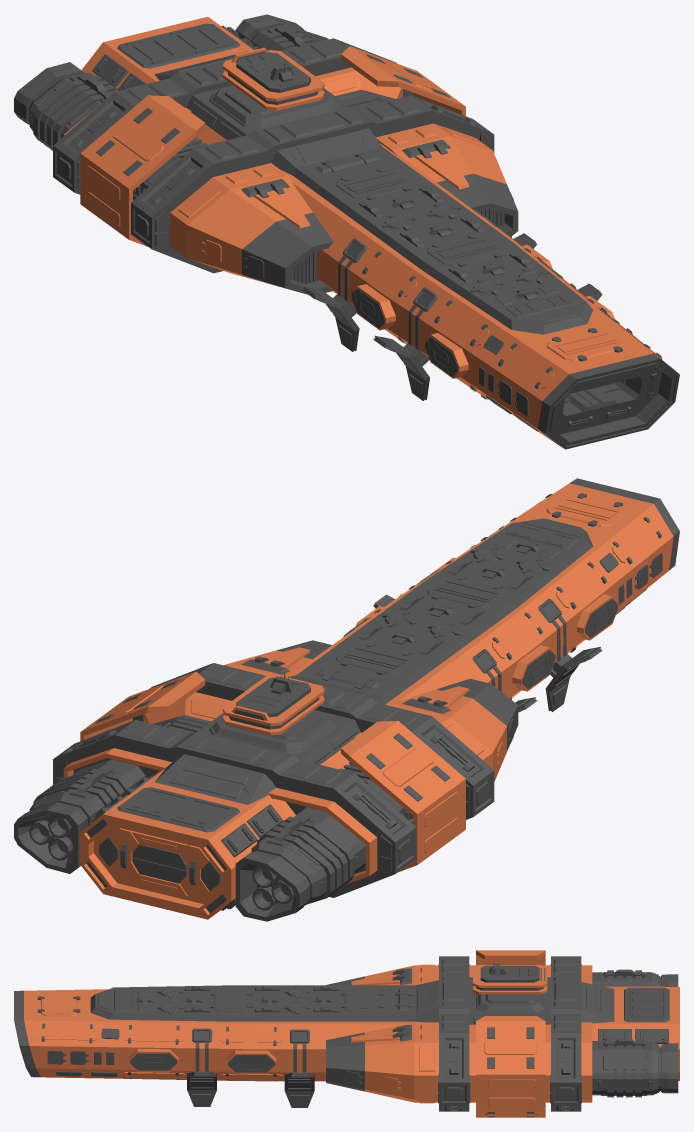
Rendered from CapitalShip_Complete.fbx.
The picture shows the model from 3 angles, top to bottom: view 1: azimuth 30°, elevation 25°; view 2: azimuth 150°, elevation 25°; view 3: azimuth 270°, elevation 25°; orthographic projection. The views are drawn at different scales.
Visible parts, largest first — view 1: CapitalShip; view 2: CapitalShip; view 3: CapitalShip.
Part boxes in pixels (left/top/right/bottom): CapitalShip: left=14, top=14, right=679, bottom=449; CapitalShip: left=14, top=478, right=679, bottom=921; CapitalShip: left=14, top=950, right=679, bottom=1117.
Bounding box in the file's own units: 452 × 212 × 1058.
